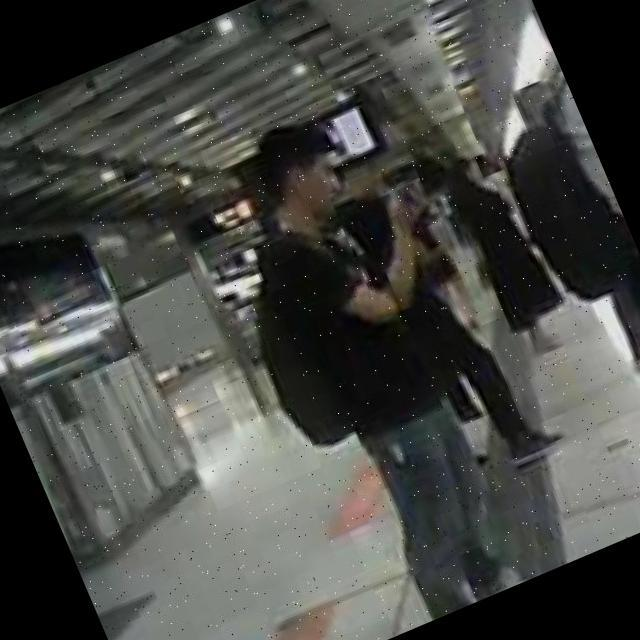person: (181, 83, 581, 640), (301, 118, 575, 502), (485, 0, 640, 503), (470, 61, 640, 389), (424, 138, 575, 372)
